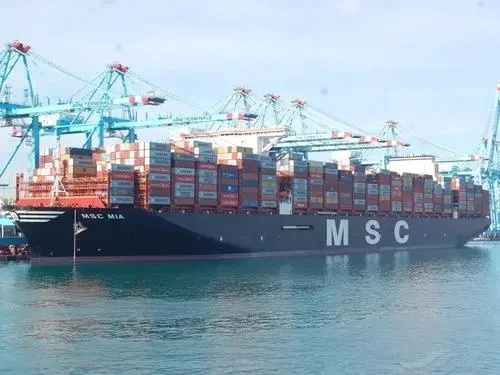Cargoship: (13, 115, 496, 251)
